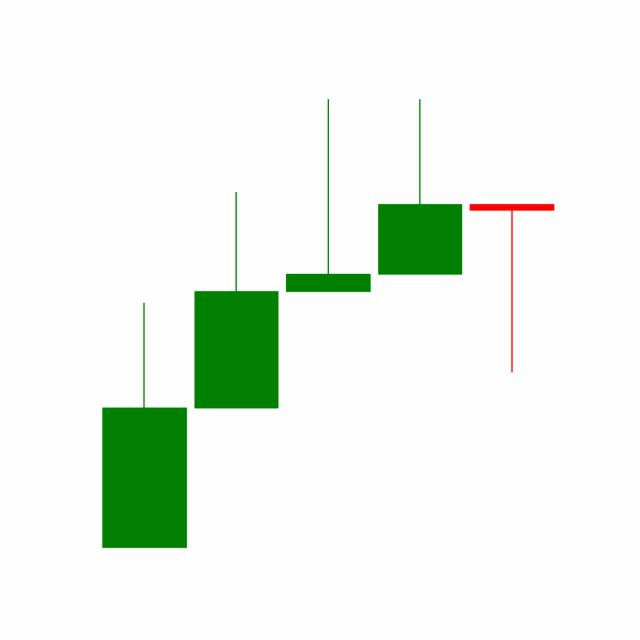Dragonfly Doji: (464, 201, 558, 374)
